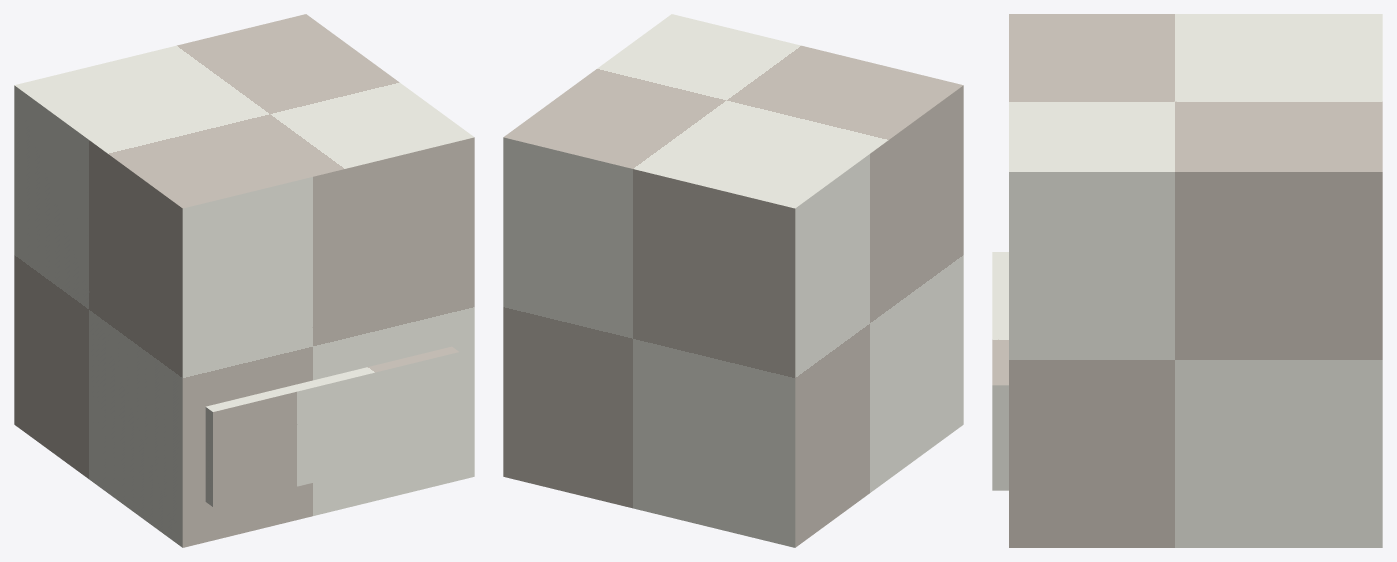
Rendered from raw_model.obj.
The picture shows the model from 3 angles, left to right: view 1: azimuth 30°, elevation 25°; view 2: azimuth 150°, elevation 25°; view 3: azimuth 270°, elevation 25°; orthographic projection. The views are drawn at different scales.
Parts seen in each view (by area): view 1: nightstand; view 2: nightstand; view 3: nightstand.
Part boxes in pixels (left/top/right/bottom): nightstand: left=14, top=14, right=474, bottom=547; nightstand: left=503, top=14, right=963, bottom=547; nightstand: left=992, top=14, right=1382, bottom=547.
Bounding box in the file's own units: 0.45 × 0.5 × 0.47.
1 material, 1 textured.
